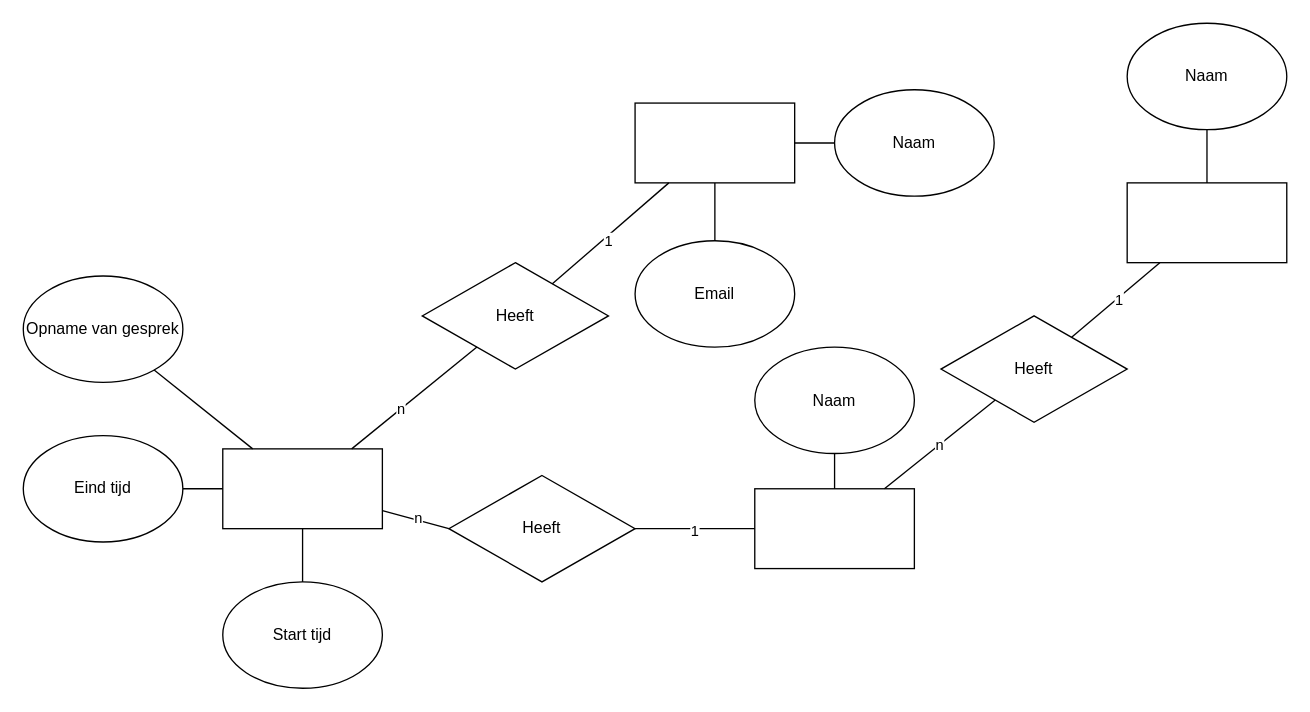
The diagram is 1310 pixels wide and 712 high, and some of its shapes have lost their labels. The centre of each missing label's shape, as x and y in pixels:
"Categorie" goes at point 1206,222.
"Gesprek" goes at point 301,488.
"Onderwerp" goes at point 833,528.
"Speler" goes at point 714,142.
